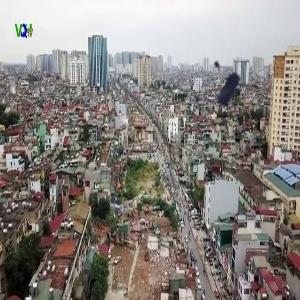drone: (176, 37, 271, 132)
